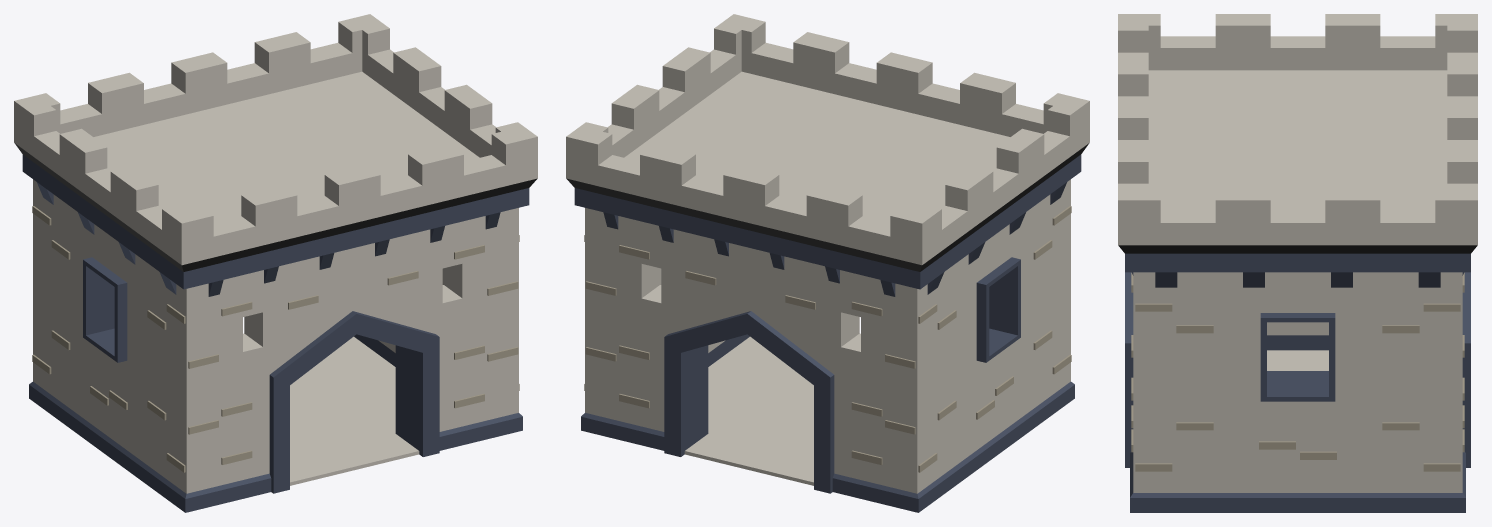
The model's file is Rampart_Gate_01.fbx.
The picture shows the model from 3 angles, left to right: view 1: azimuth 30°, elevation 25°; view 2: azimuth 150°, elevation 25°; view 3: azimuth 270°, elevation 25°; orthographic projection. The views are drawn at different scales.
Visible parts, largest first — view 1: Rampart_Gate_01; view 2: Rampart_Gate_01; view 3: Rampart_Gate_01.
Part boxes in pixels (x1,y1,x2,y2): Rampart_Gate_01: [14, 14, 537, 512]; Rampart_Gate_01: [566, 14, 1089, 512]; Rampart_Gate_01: [1118, 14, 1477, 512].
Size of the model in its own units: 1071 by 850 by 874.
Materials: 1 (1 with a texture image).
